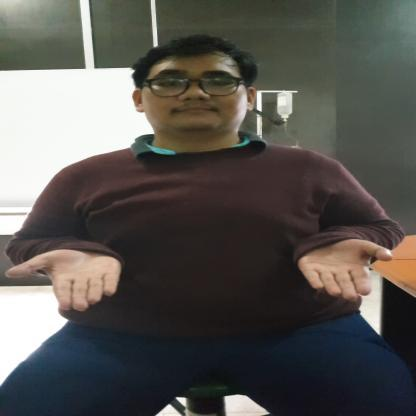Apa: (4, 237, 396, 313)
